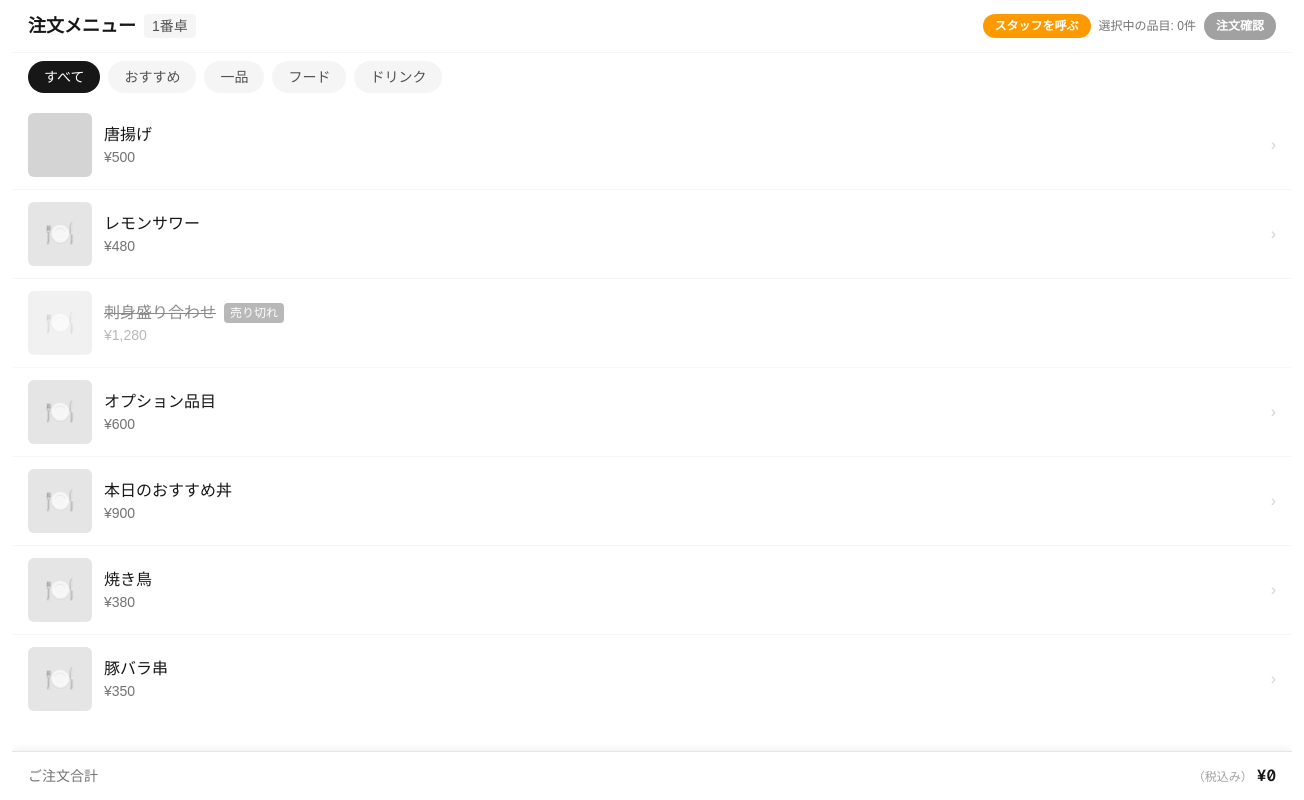
Test case: MenuScreen › ジャンル内にサブカテゴリを持つ品目があればサブタブが表示され、選択すると絞り込まれる（0016で追加）
The width and height of the screenshot is (1304, 800).
Expected: the text "唐揚げ" is shown, top-left (104, 123), bottom-right (152, 147)
Step 1. Click the tab "フード" → {"x": 310, "y": 77}, box top-left (272, 61), bottom-right (346, 93)
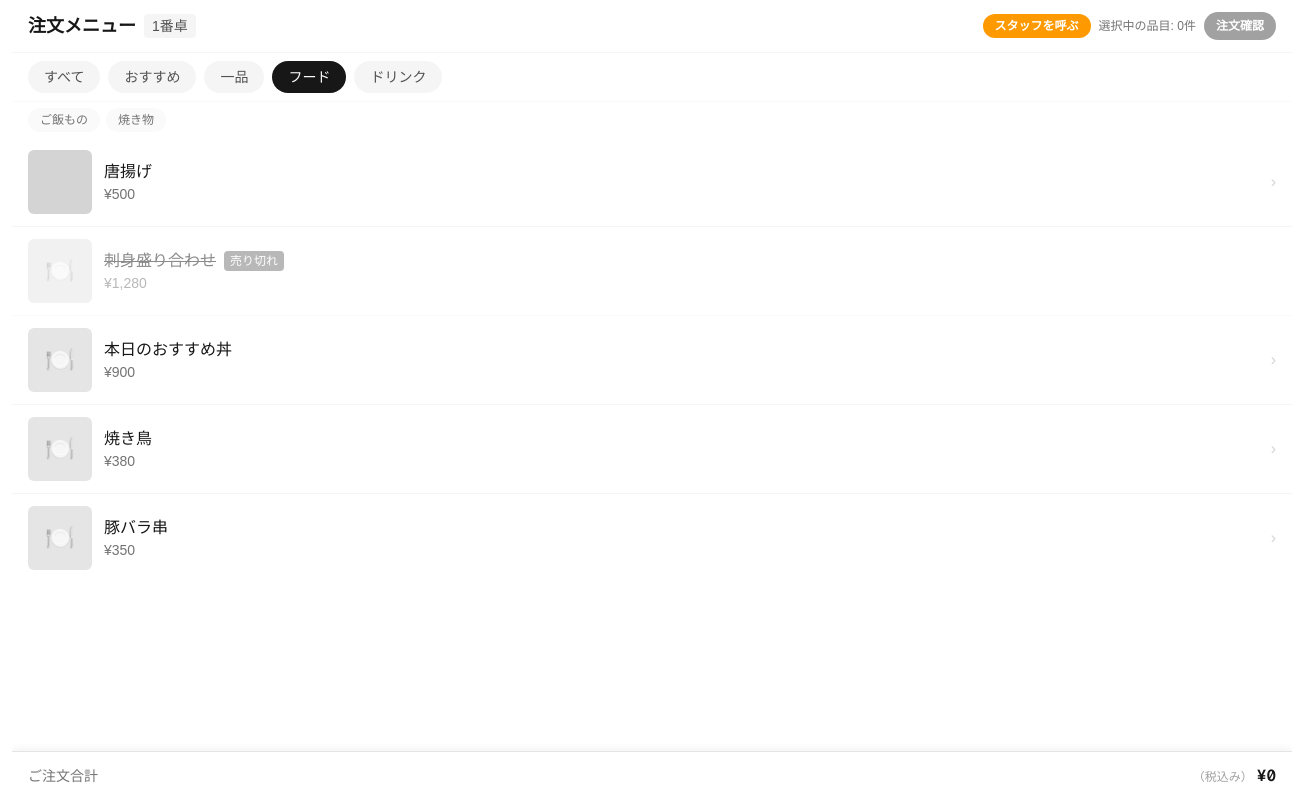
Expected: the text "唐揚げ" is shown, top-left (104, 160), bottom-right (152, 184)
Result: the tab "焼き物" is shown
Result: the tab "ご飯もの" is shown at top-left (28, 108), bottom-right (100, 132)
Step 2. Click the tab "焼き物" → {"x": 136, "y": 120}, box top-left (106, 108), bottom-right (166, 132)
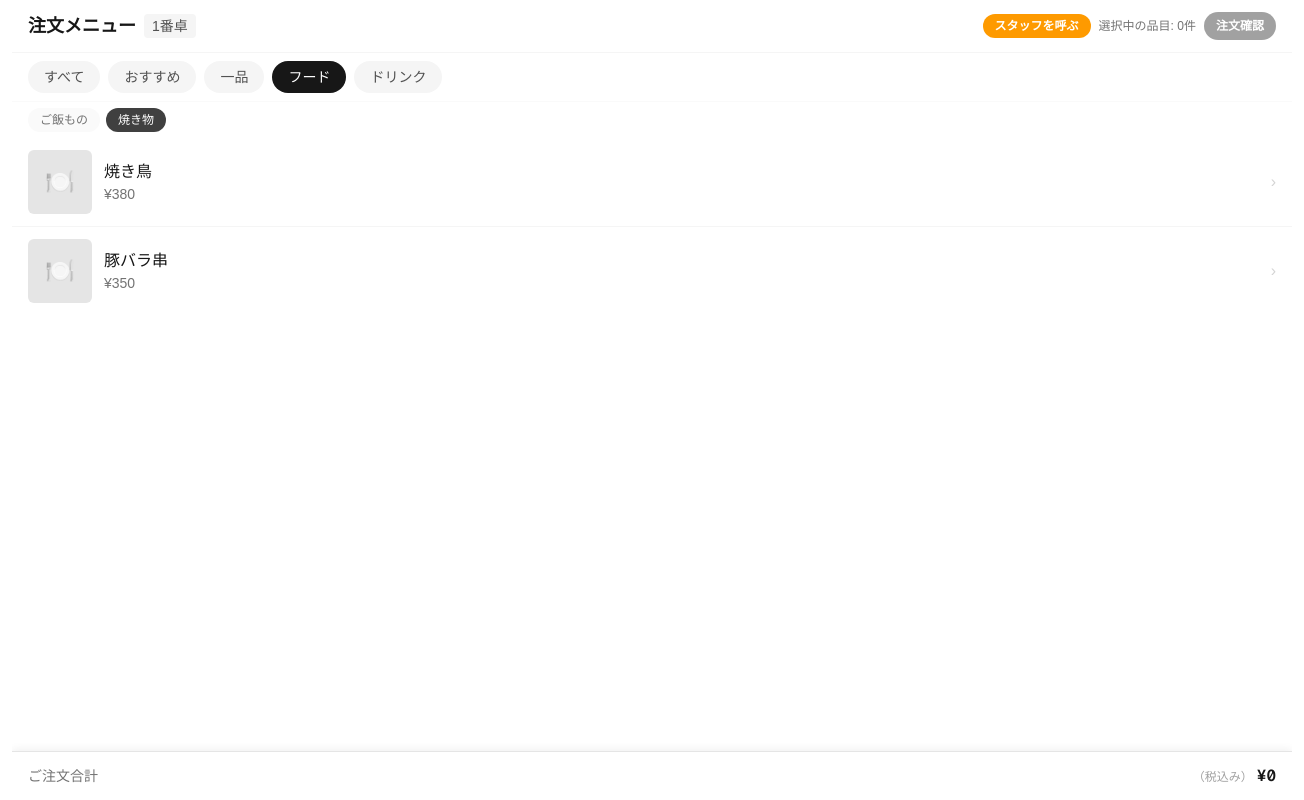
Expected: the text "焼き鳥" is shown, top-left (104, 160), bottom-right (152, 184)
Result: the button "唐揚げ" is gone
Result: the button "本日のおすすめ丼" is gone
Note: 選択中のサブタブを再度タップすると絞り込みが解除される。
Step 3. Click the tab "焼き物" → {"x": 136, "y": 120}, box top-left (106, 108), bottom-right (166, 132)
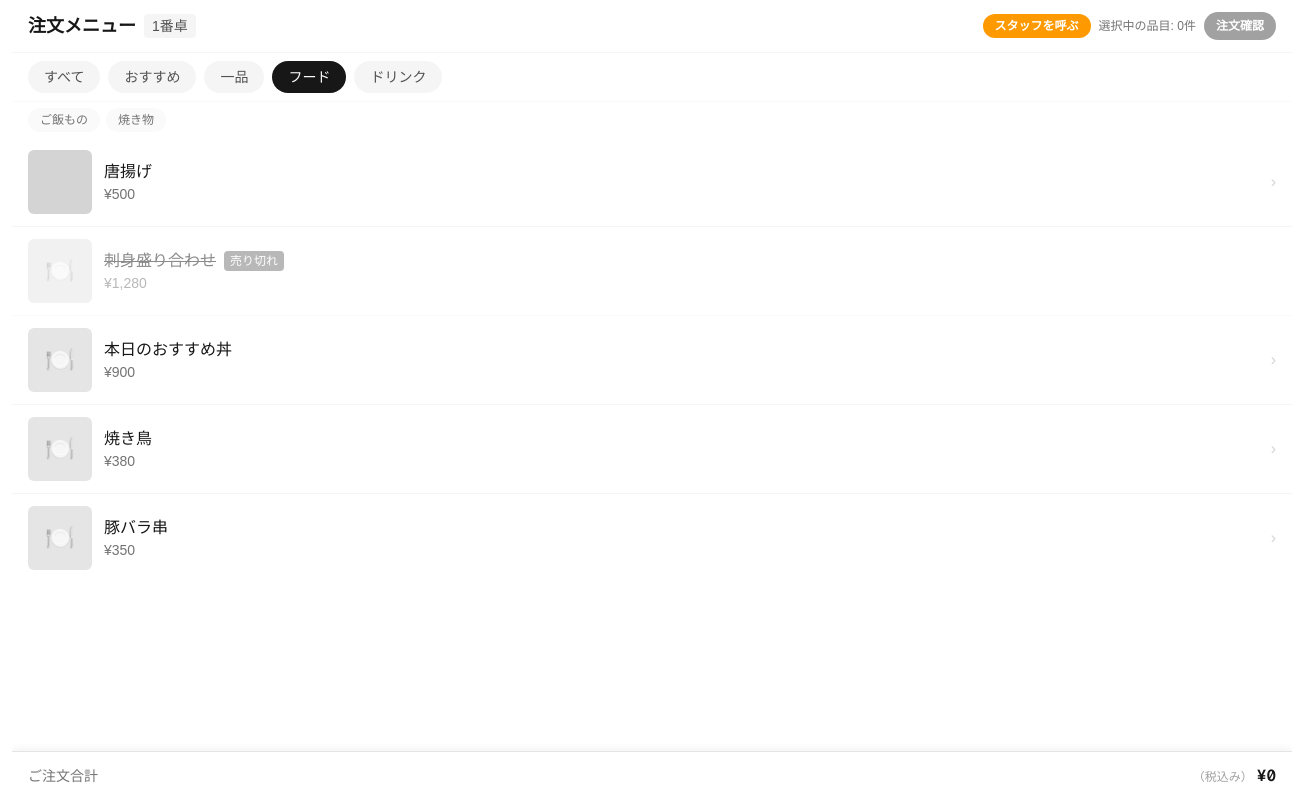
Expected: the text "焼き鳥" is shown, top-left (104, 427), bottom-right (152, 451)
Result: the text "唐揚げ" is shown at top-left (104, 160), bottom-right (152, 184)
